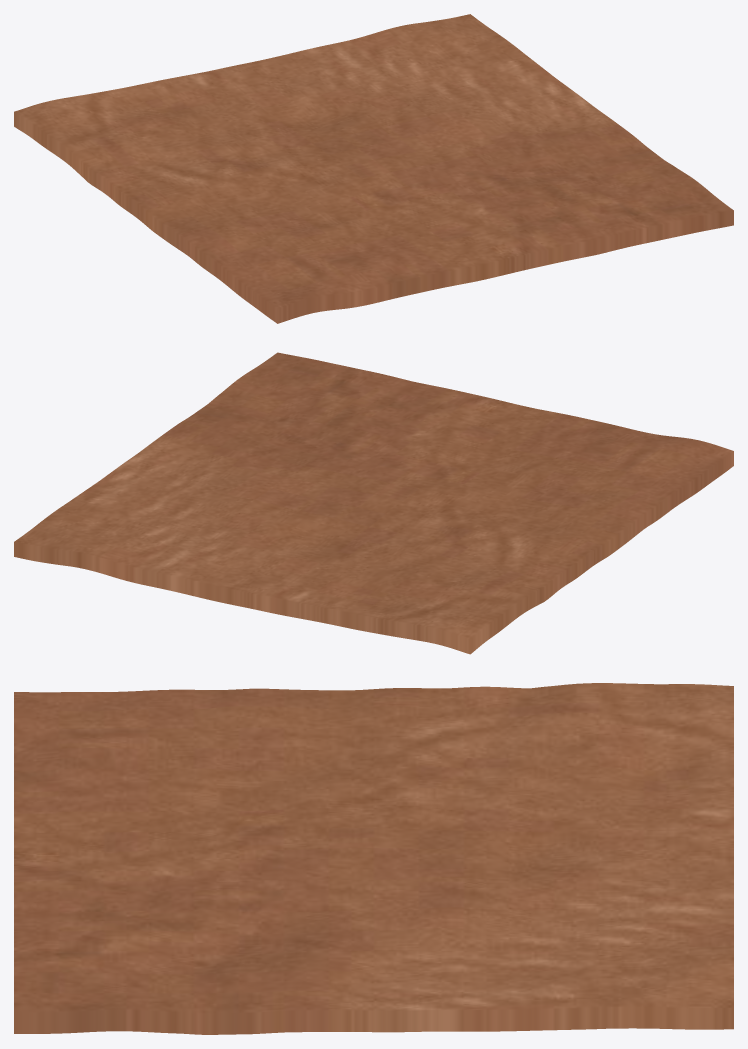
3 views of the same model, one above another, from view 1: azimuth 30°, elevation 25°; view 2: azimuth 150°, elevation 25°; view 3: azimuth 270°, elevation 25° (orthographic). The views are drawn at different scales.
Parts seen in each view (by area): view 1: L8_137_84; view 2: L8_137_84; view 3: L8_137_84.
Boxes of the visible parts, box(x1,y1,x2,y2) form: L8_137_84: box(14, 14, 733, 323); L8_137_84: box(14, 352, 733, 654); L8_137_84: box(14, 683, 733, 1034).
Bounding box in the file's own units: 56.26 × 4.12 × 56.28.
1 material, 1 textured.
